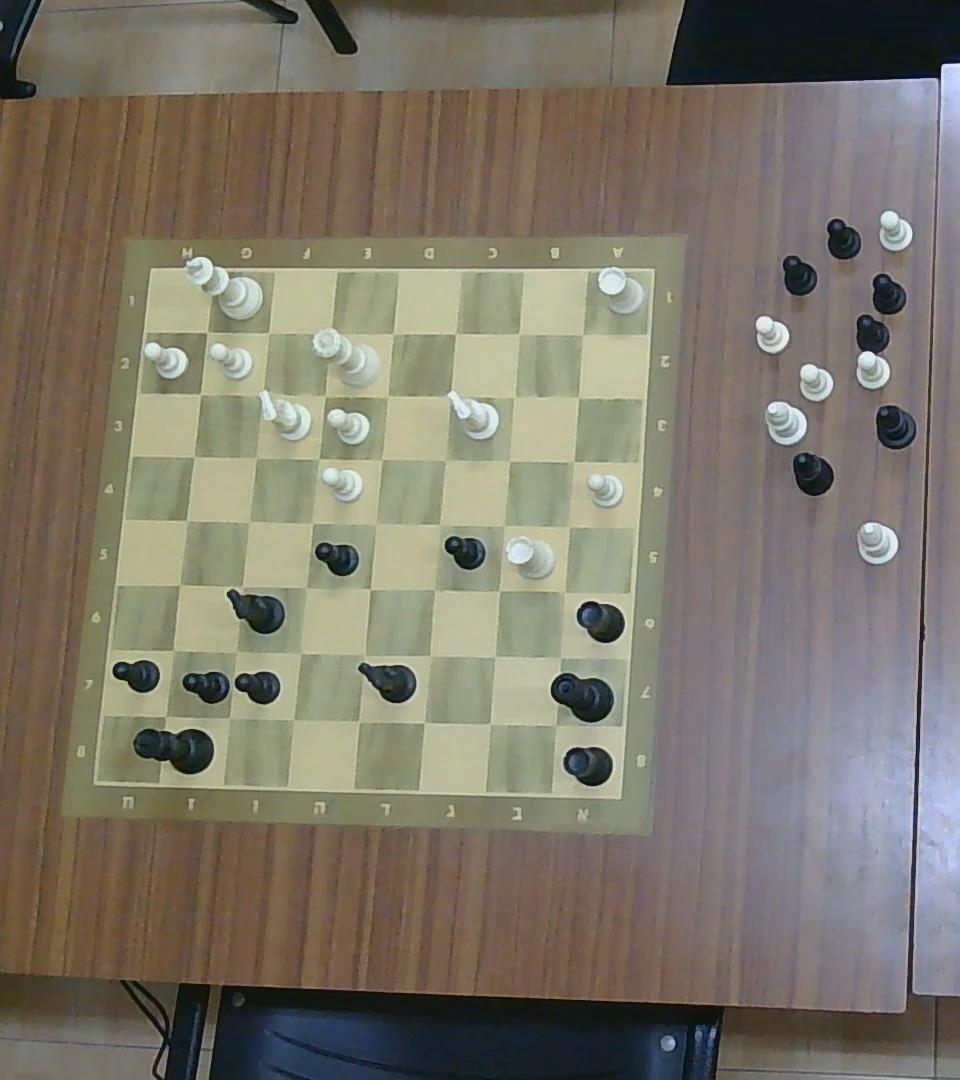xcorner: (280, 704, 305, 733), (411, 708, 437, 735), (215, 703, 241, 730), (153, 702, 179, 728), (417, 643, 443, 669), (167, 572, 192, 598), (346, 707, 371, 733), (481, 643, 506, 669), (477, 711, 503, 736), (543, 712, 568, 738), (351, 641, 376, 667), (287, 639, 311, 666), (547, 645, 572, 670), (161, 638, 185, 664), (486, 577, 510, 603), (318, 321, 342, 346), (551, 580, 576, 604), (223, 638, 246, 664), (236, 508, 259, 534), (174, 507, 198, 531), (364, 512, 387, 536), (558, 514, 581, 538), (294, 575, 317, 599), (376, 384, 399, 408), (427, 512, 450, 536), (257, 320, 280, 344), (196, 318, 218, 343), (300, 511, 323, 534), (306, 447, 329, 470), (491, 513, 514, 536), (421, 577, 444, 600), (438, 383, 461, 406), (230, 575, 253, 598), (498, 448, 520, 472), (245, 445, 267, 469), (444, 320, 466, 344), (381, 320, 403, 344), (251, 381, 273, 405), (433, 447, 455, 470), (182, 445, 204, 468), (359, 577, 381, 600), (508, 322, 530, 345), (189, 381, 210, 405), (562, 449, 584, 471), (568, 385, 590, 407), (371, 447, 392, 470), (572, 323, 592, 345), (503, 386, 524, 406), (315, 384, 334, 405)
